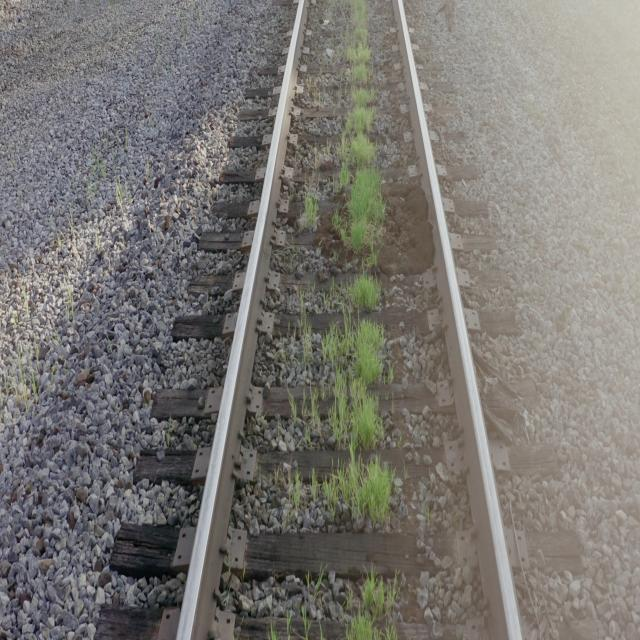Plant: (310, 311, 395, 531), (331, 0, 386, 269), (348, 571, 396, 640), (349, 271, 380, 311), (300, 389, 321, 442), (300, 311, 312, 369), (305, 189, 319, 227), (291, 471, 301, 509), (291, 400, 298, 424)
